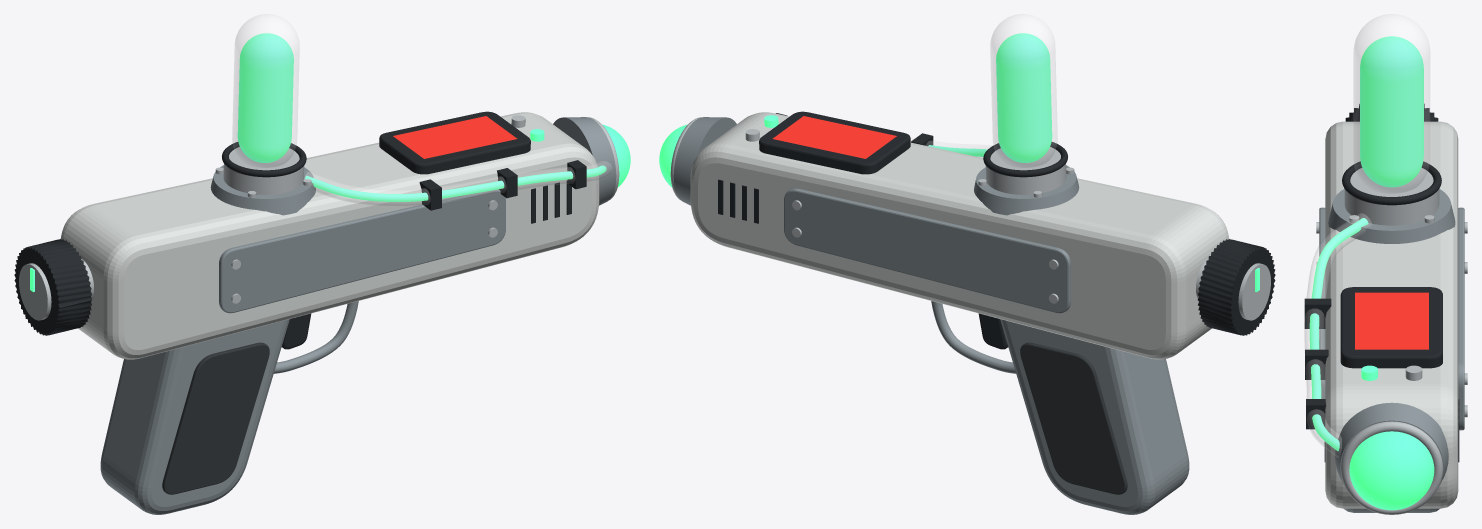
Rendered from portal-gun.glb.
3 views of the same model, side by side, from view 1: azimuth 30°, elevation 25°; view 2: azimuth 150°, elevation 25°; view 3: azimuth 270°, elevation 25° (orthographic). The views are drawn at different scales.
Visible parts, largest first — view 1: Titanium shell, Grip, Side panel (right), Portal fluid vial, Frequency display, Dimensional dial, Stabilization conduit, Vial socket, Portal emitter, Trigger; view 2: Titanium shell, Grip, Side panel (left), Portal fluid vial, Frequency display, Dimensional dial, Vial socket, Portal emitter, Trigger, Stabilization conduit; view 3: Titanium shell, Portal fluid vial, Portal emitter, Frequency display, Vial socket, Stabilization conduit, Side panel (left), Side panel (right), Dimensional dial, Grip.
Part boxes in pixels (x1,y1,x2,y2): Titanium shell: (60, 112, 599, 359); Grip: (100, 319, 289, 514); Side panel (right): (219, 189, 505, 313); Portal fluid vial: (232, 14, 299, 167); Frequency display: (379, 111, 544, 174); Dimensional dial: (14, 239, 93, 335); Stabilization conduit: (304, 160, 611, 210); Vial socket: (210, 142, 315, 215); Portal emitter: (553, 117, 630, 205); Trigger: (273, 301, 358, 373); Titanium shell: (690, 112, 1229, 359); Grip: (1000, 319, 1189, 514); Side panel (left): (784, 188, 1070, 313); Portal fluid vial: (990, 14, 1057, 167); Frequency display: (745, 111, 910, 174); Dimensional dial: (1196, 239, 1275, 335); Vial socket: (974, 142, 1079, 215); Portal emitter: (659, 117, 736, 205); Trigger: (931, 301, 1016, 373); Stabilization conduit: (776, 113, 992, 157); Titanium shell: (1324, 121, 1459, 508); Portal fluid vial: (1353, 14, 1429, 193); Portal emitter: (1335, 402, 1448, 514); Frequency display: (1340, 287, 1442, 380); Vial socket: (1328, 161, 1455, 243); Stabilization conduit: (1304, 213, 1371, 457); Side panel (left): (1458, 207, 1467, 430); Side panel (right): (1316, 207, 1325, 398); Dimensional dial: (1345, 103, 1438, 121); Grip: (1344, 508, 1439, 512).
Size of the model in its own units: 0.273 by 0.1998 by 0.0552.
